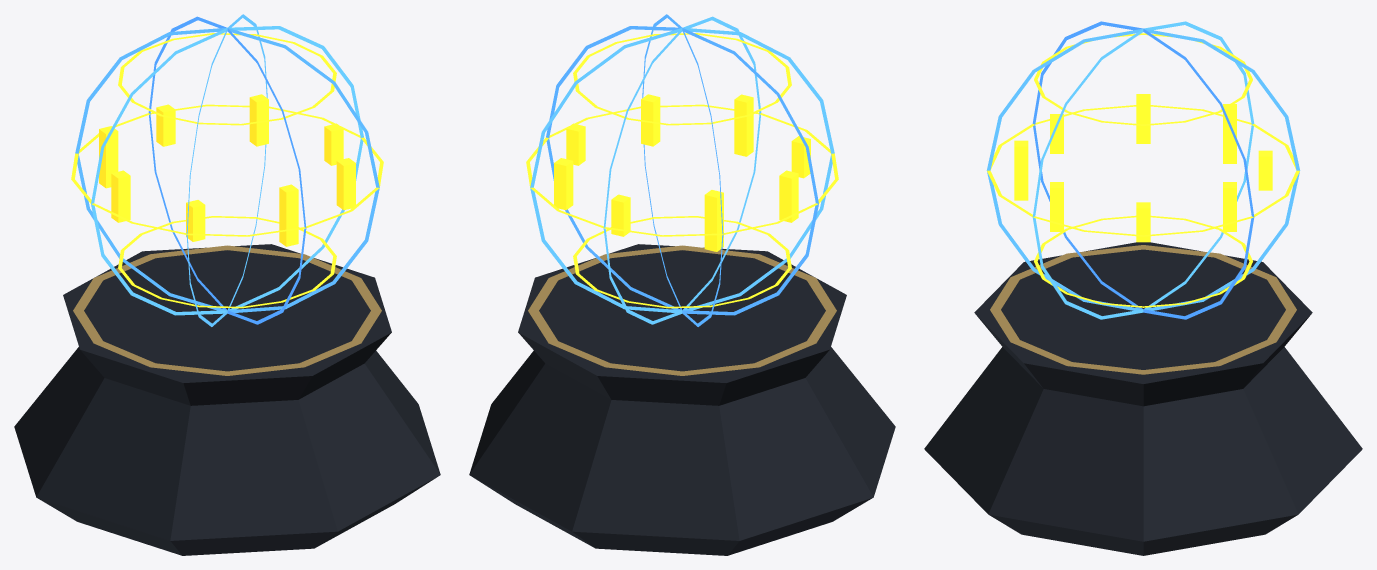
The model's file is res_holo_globe_stand.glb.
3 renders of one model, left to right at view 1: azimuth 30°, elevation 25°; view 2: azimuth 150°, elevation 25°; view 3: azimuth 270°, elevation 25°, orthographic.
Visible parts, largest first — view 1: octagonal_pedestal, city_sector, meridian, projector_ring; view 2: octagonal_pedestal, city_sector, meridian, projector_ring; view 3: octagonal_pedestal, city_sector, meridian, projector_ring.
Part boxes in pixels (x1,y1,x2,y2): octagonal_pedestal: (14,244,440,555); city_sector: (71,33,383,308); meridian: (75,14,379,326); projector_ring: (73,245,381,375); octagonal_pedestal: (469,244,895,555); city_sector: (526,33,838,308); meridian: (530,14,834,326); projector_ring: (528,245,836,375); octagonal_pedestal: (924,242,1362,555); city_sector: (987,33,1299,307); meridian: (986,21,1300,319); projector_ring: (990,245,1296,374).
Bounding box in the file's own units: 1.4 × 1.6 × 1.4.
